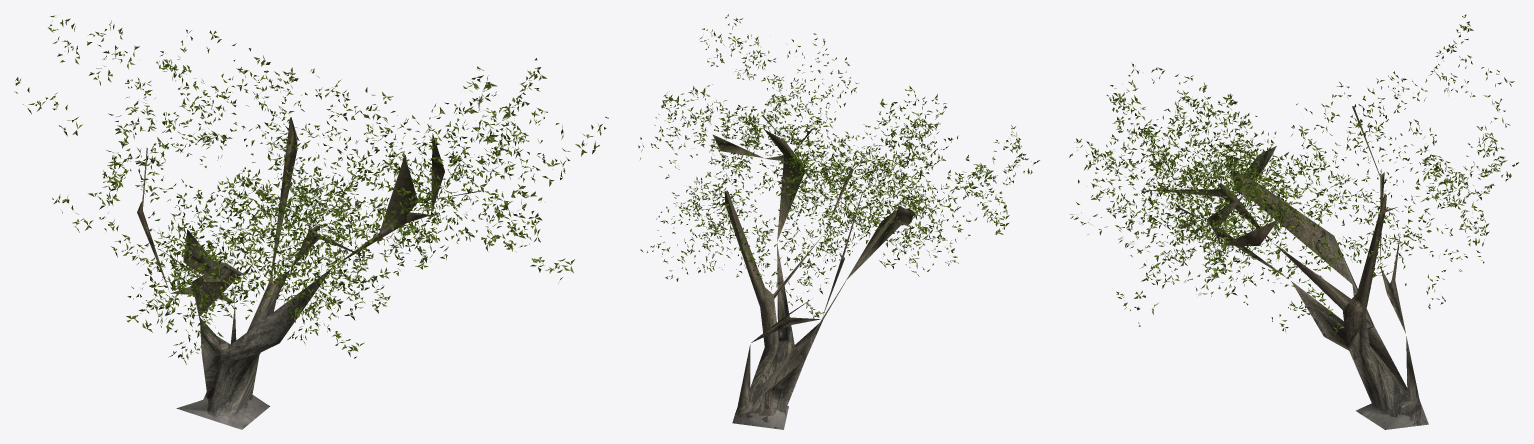
Rendered from islandTreeFar.glb.
The picture shows the model from 3 angles, left to right: view 1: azimuth 30°, elevation 25°; view 2: azimuth 150°, elevation 25°; view 3: azimuth 270°, elevation 25°; orthographic projection. The views are drawn at different scales.
Visible parts, largest first — view 1: island_tree_02_LOD0; view 2: island_tree_02_LOD0; view 3: island_tree_02_LOD0.
Part boxes in pixels (left/top/right/bottom): island_tree_02_LOD0: left=14, top=15, right=608, bottom=429; island_tree_02_LOD0: left=638, top=14, right=1039, bottom=429; island_tree_02_LOD0: left=1069, top=14, right=1518, bottom=429.
Size of the model in its own units: 3.82 by 3.4 by 4.03.
3 materials, 3 textured.
